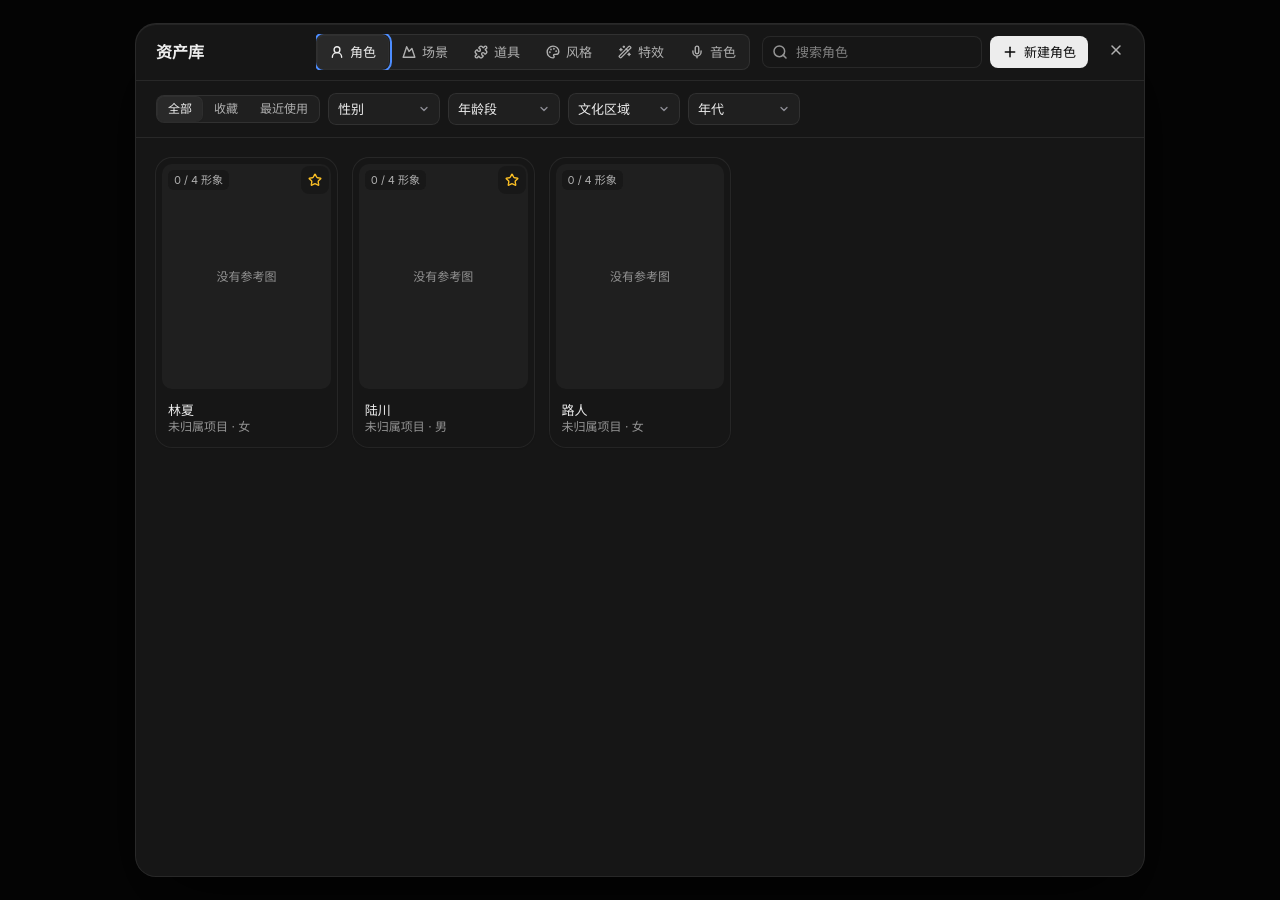
Scenario: 资产库面板的筛选与来源 › 重置筛选同时清掉关键词和标签，保留当前范围并把焦点送回搜索框
The image size is (1280, 900).
Click the button "收藏".
click(226, 109)  # box [204, 97, 248, 121]
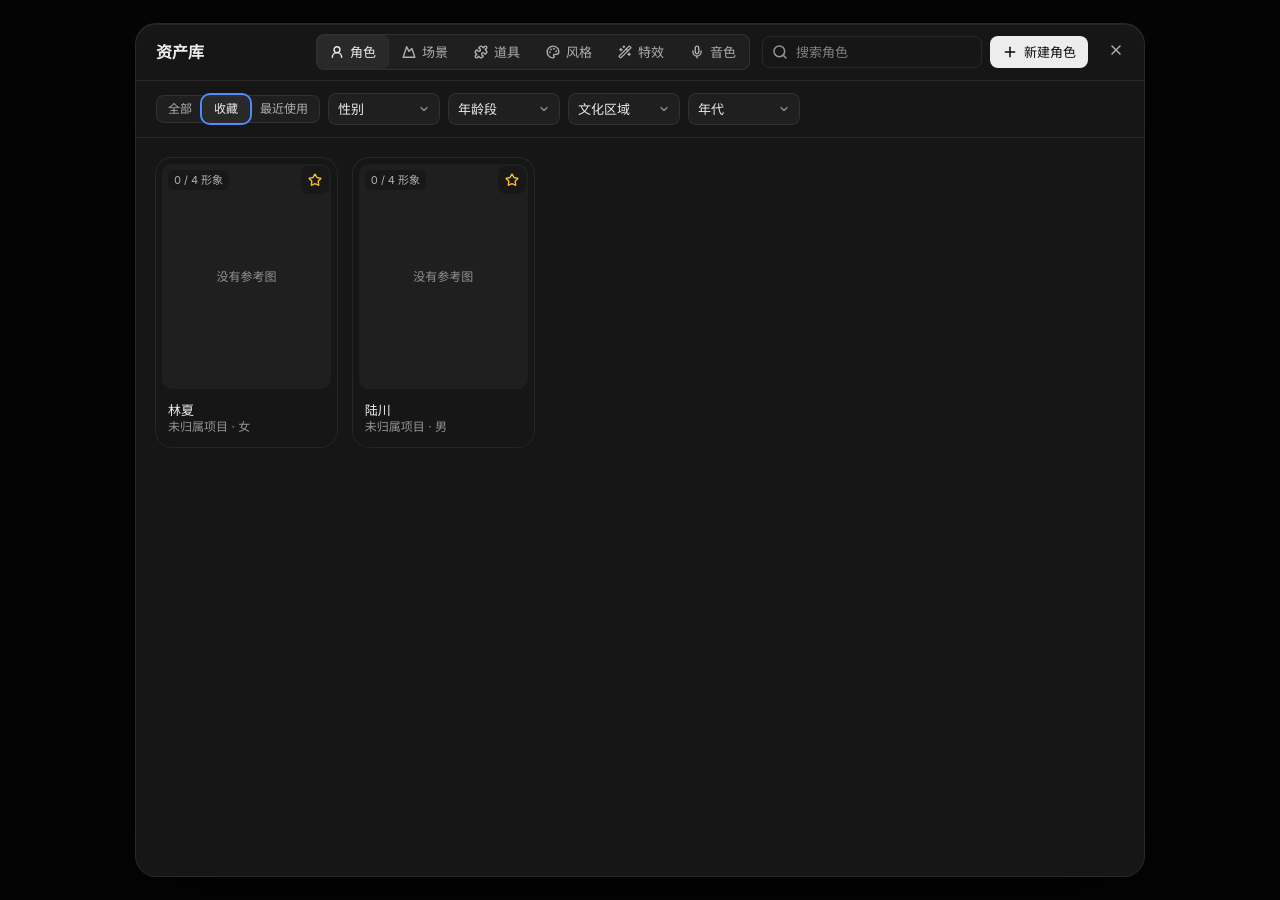
Click the dropdown labelled "性别".
click(384, 109)  # box [328, 93, 440, 125]
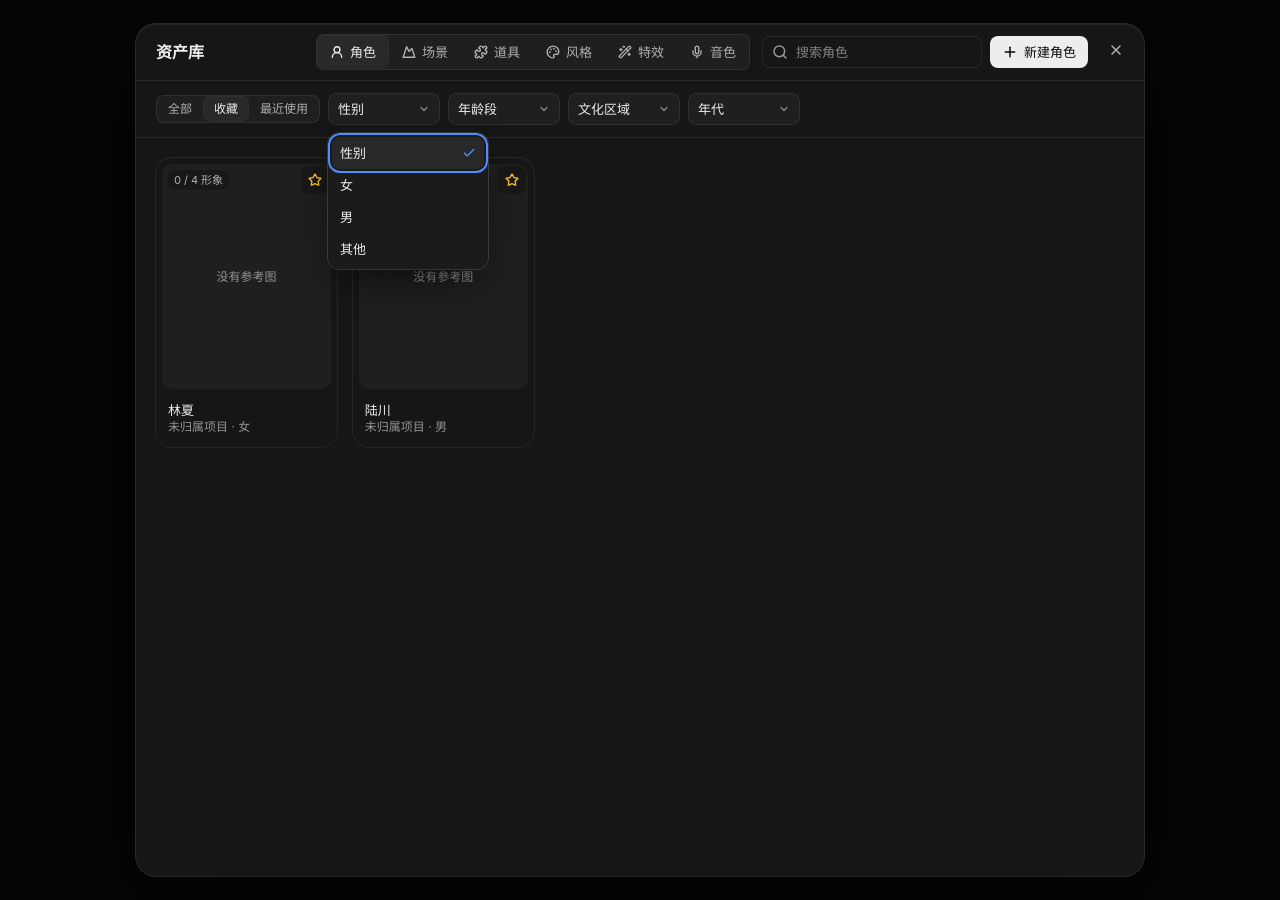
Click the option "女".
click(346, 185)  # box [340, 177, 353, 193]
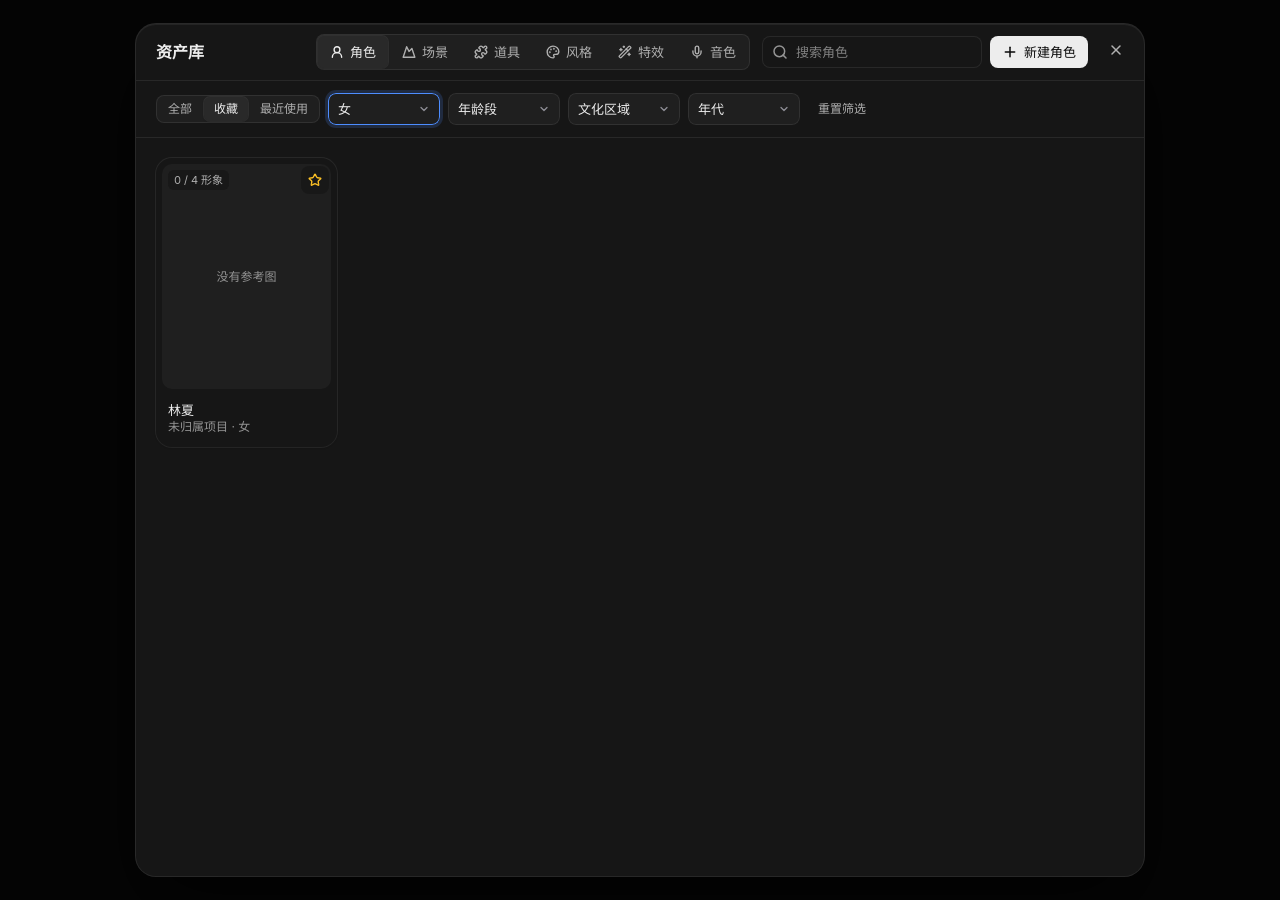
Now the button "陆川" is gone
Type "林夏" into the search field labelled "搜索角色".
click(884, 52); type("林夏")  # box [796, 43, 972, 61]
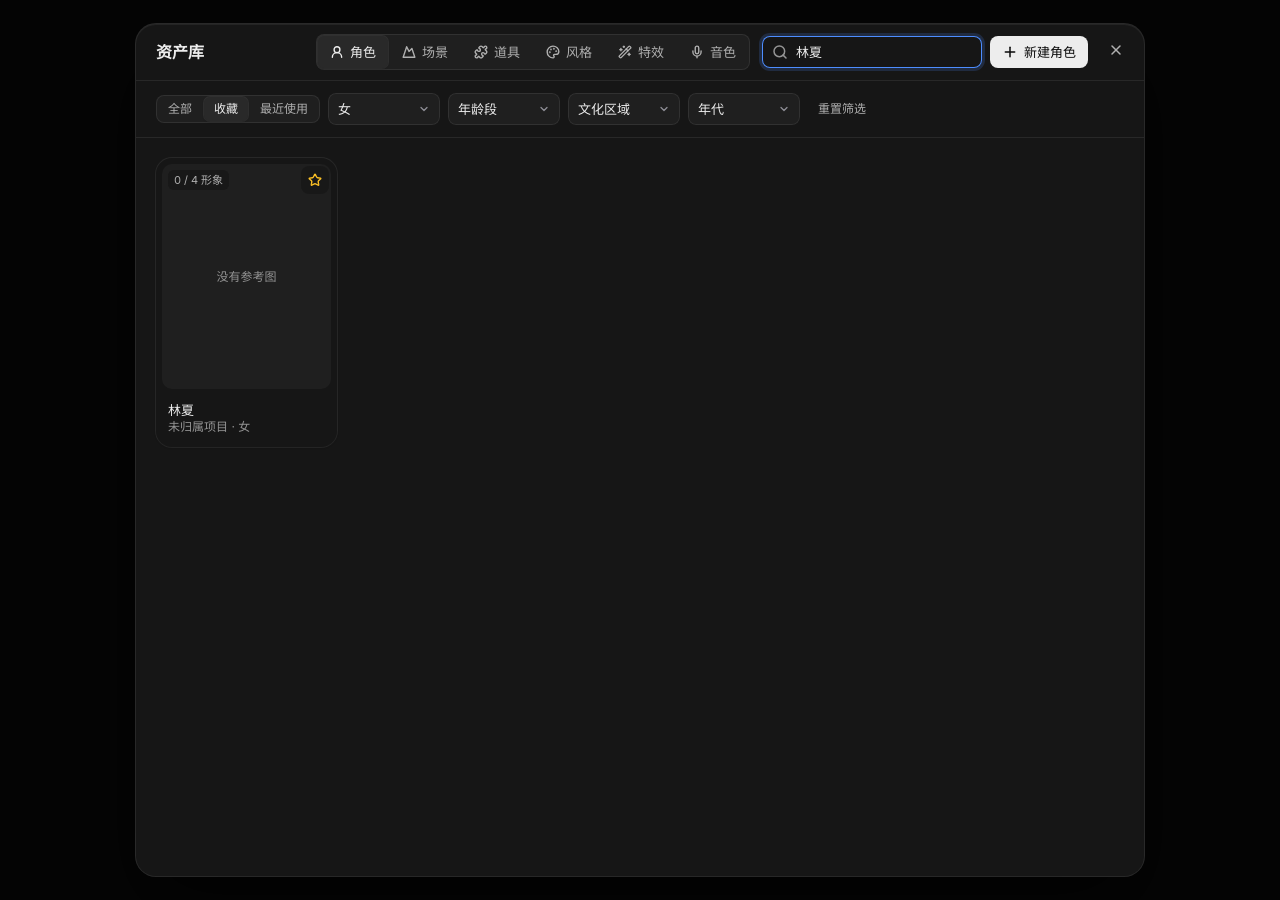
Expected: the text "林夏" is shown, [168, 402, 194, 418]
Click the button "重置筛选".
click(842, 109)  # box [808, 95, 876, 123]
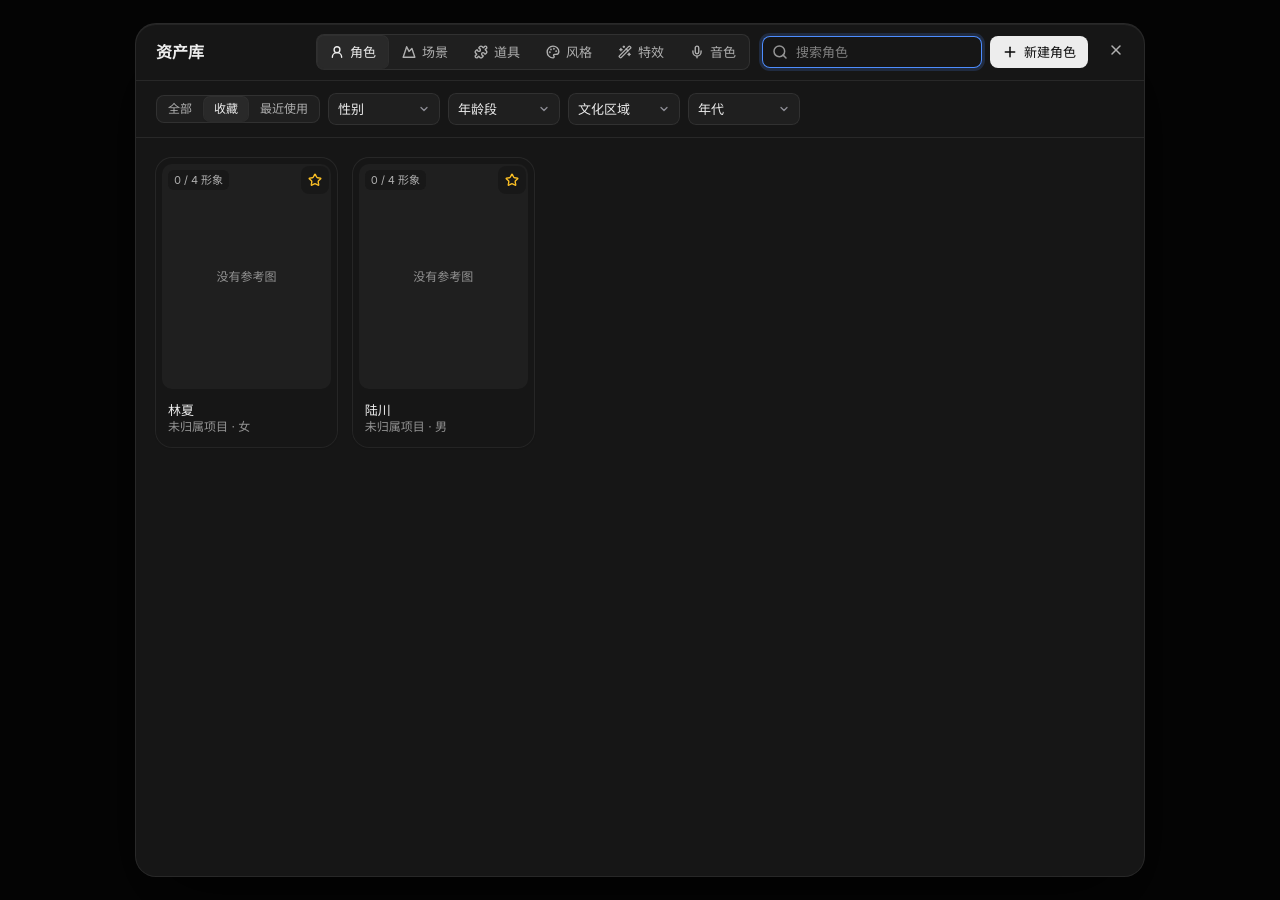
Now the text "陆川" is shown, box [365, 402, 391, 418]
Now the search field labelled "搜索角色" is empty, box [796, 43, 972, 61]
